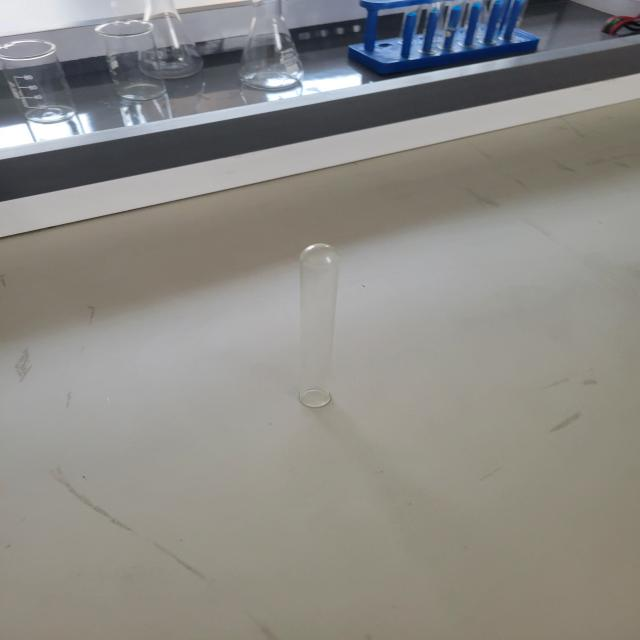Test_Tube: (267, 218, 370, 434)
